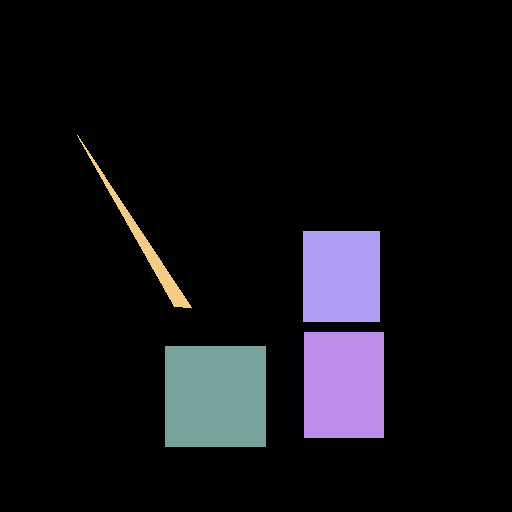rectangle: (304, 332, 383, 437), (303, 231, 379, 321)
square: (165, 346, 265, 446)
triangle: (77, 135, 191, 307)
